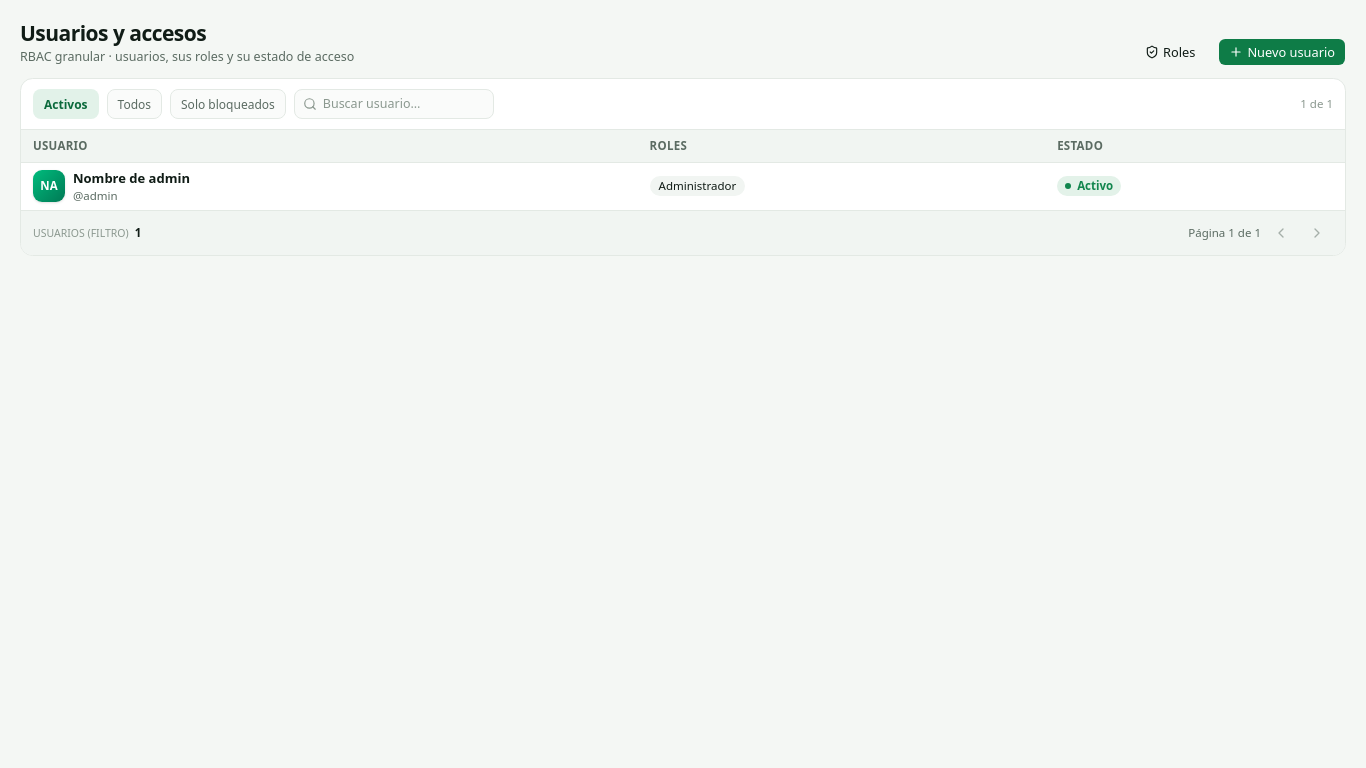
Test case: <UsuariosPagina> › muestra los roles del usuario seleccionado en el detalle
What coordinates should you click on to do the following:
click the row with test id "fila-usuario"
I would click on:
 (683, 186)
Its box is left=21, top=162, right=1345, bottom=210.
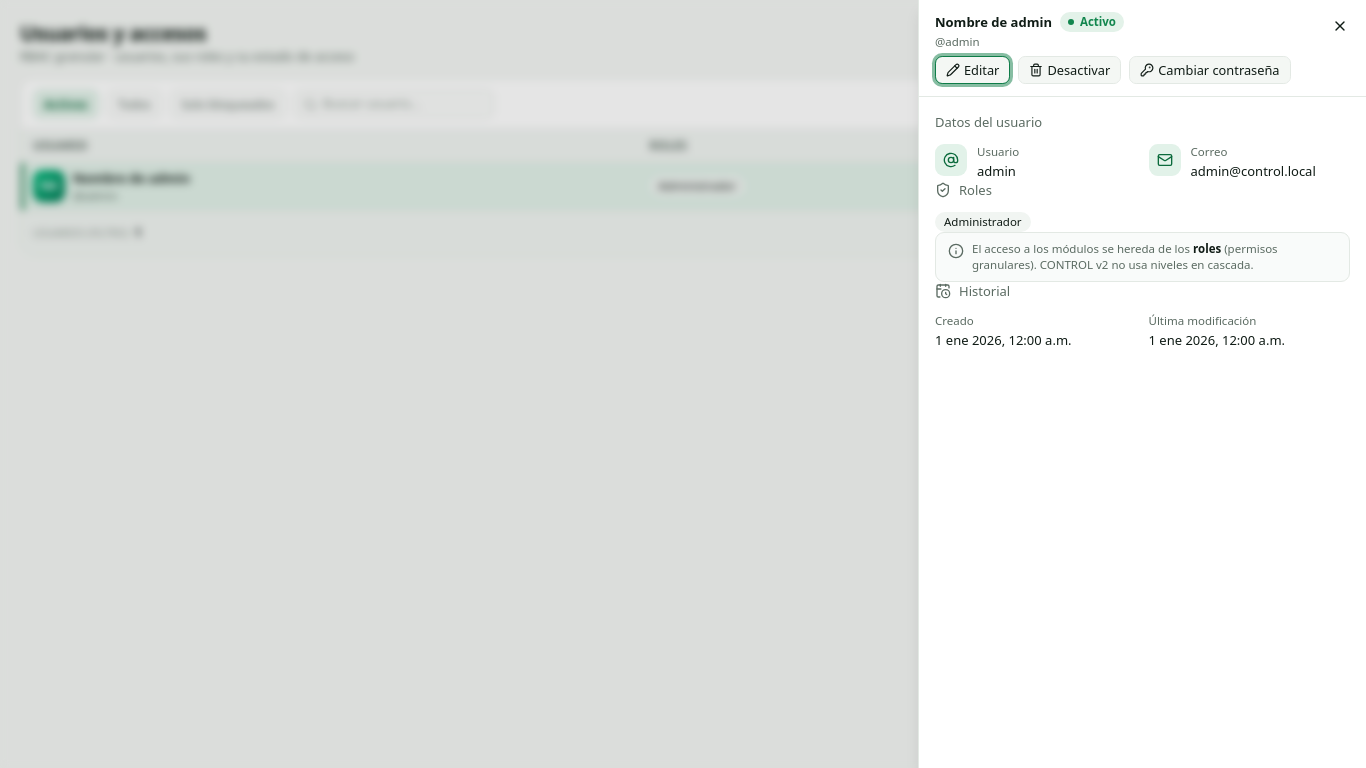
Result: the text "Administrador" is shown at left=935, top=212, right=1031, bottom=232
